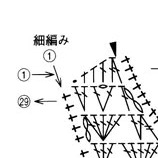enseble_chain: (101, 41, 129, 85), (96, 110, 130, 146), (77, 110, 106, 148), (96, 84, 122, 115), (113, 83, 138, 115), (69, 82, 92, 116), (126, 112, 148, 143), (30, 66, 59, 84), (33, 93, 59, 110), (97, 60, 113, 85), (31, 33, 51, 49), (17, 94, 33, 109), (18, 67, 31, 82), (94, 142, 106, 158), (101, 145, 114, 158), (46, 34, 58, 48)
fan: (103, 56, 125, 87), (96, 113, 112, 139)
